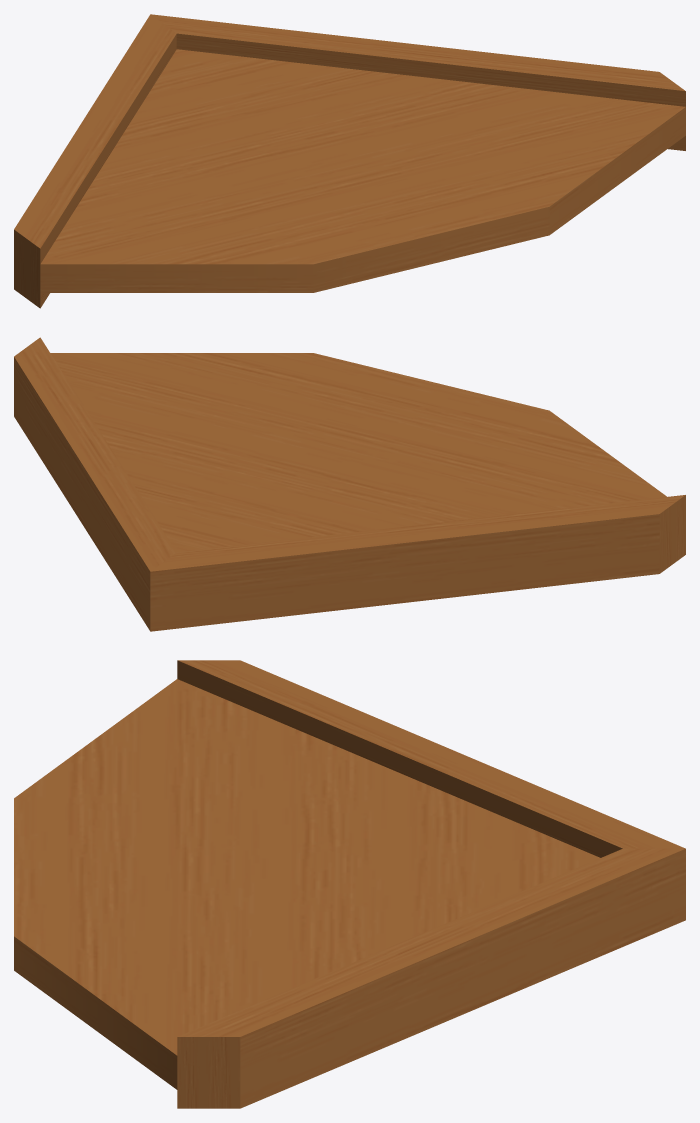
The model's file is Corner_Shelving_B_07.FBX.
3 renders of one model, top to bottom at view 1: azimuth 30°, elevation 25°; view 2: azimuth 150°, elevation 25°; view 3: azimuth 270°, elevation 25°, orthographic. The views are drawn at different scales.
Parts seen in each view (by area): view 1: Corner_Shelving_B; view 2: Corner_Shelving_B; view 3: Corner_Shelving_B.
Part boxes in pixels (<box>): Corner_Shelving_B: <box>14,14,685,308</box>; Corner_Shelving_B: <box>14,337,685,631</box>; Corner_Shelving_B: <box>14,660,685,1108</box>.
Size of the model in its own units: 141 by 12.55 by 107.
